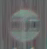No overtake: (0, 1, 43, 47)
